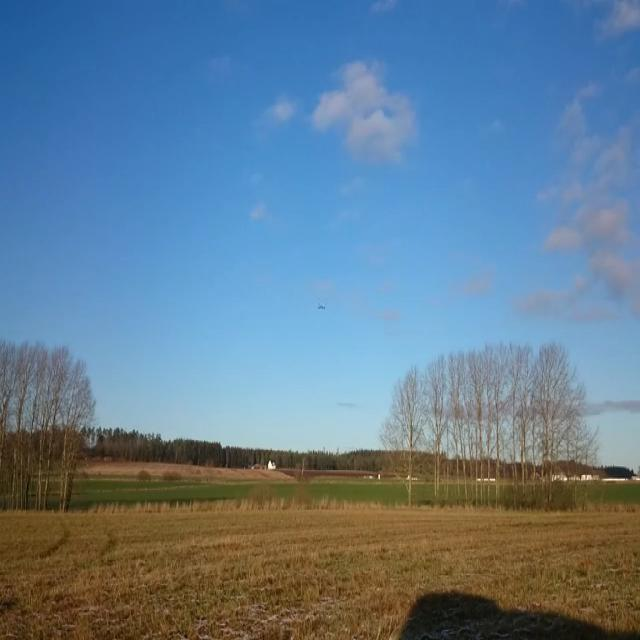Drone: (309, 296, 336, 325)
